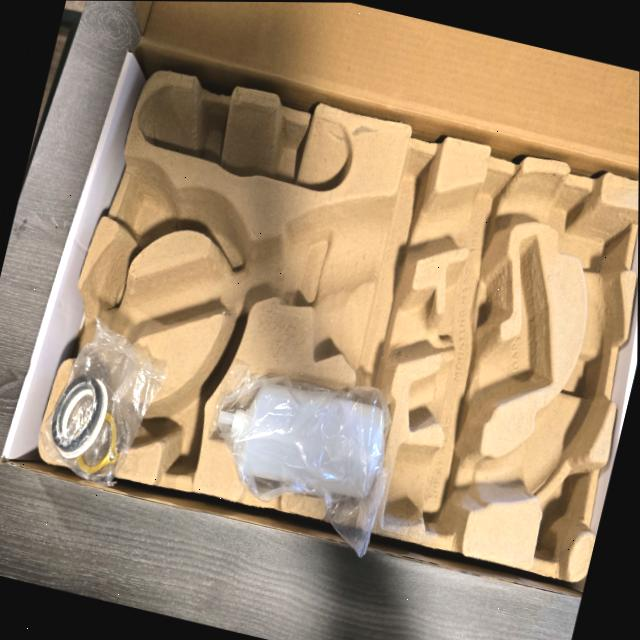1m: (65, 170, 621, 526)
2m: (407, 240, 549, 432)
3: (216, 381, 392, 496)
4m: (140, 83, 350, 192)
5m: (119, 170, 172, 244)
6: (38, 314, 164, 493)
7m: (161, 371, 213, 472)
